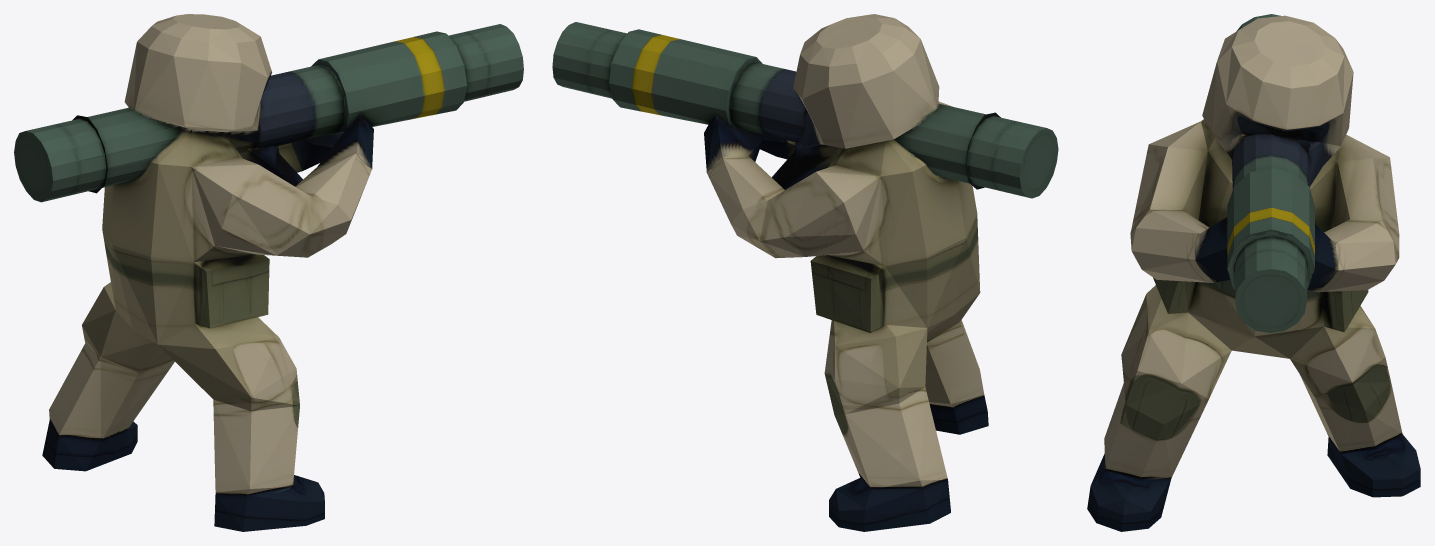
Rendered from AntiUnit.glb.
The picture shows the model from 3 angles, left to right: view 1: azimuth 30°, elevation 25°; view 2: azimuth 150°, elevation 25°; view 3: azimuth 270°, elevation 25°; orthographic projection. The views are drawn at different scales.
Visible parts, largest first — view 1: tripo_node_a63fb632-94ca-4d43-94b4-b8e9afec190e; view 2: tripo_node_a63fb632-94ca-4d43-94b4-b8e9afec190e; view 3: tripo_node_a63fb632-94ca-4d43-94b4-b8e9afec190e.
Part boxes in pixels (x1,y1,x2,y2): tripo_node_a63fb632-94ca-4d43-94b4-b8e9afec190e: (14,14,523,531); tripo_node_a63fb632-94ca-4d43-94b4-b8e9afec190e: (552,14,1058,531); tripo_node_a63fb632-94ca-4d43-94b4-b8e9afec190e: (1087,14,1420,531).
Bounding box in the file's own units: 0.998 × 0.9043 × 0.5723.
Materials: 1 (1 with a texture image).
